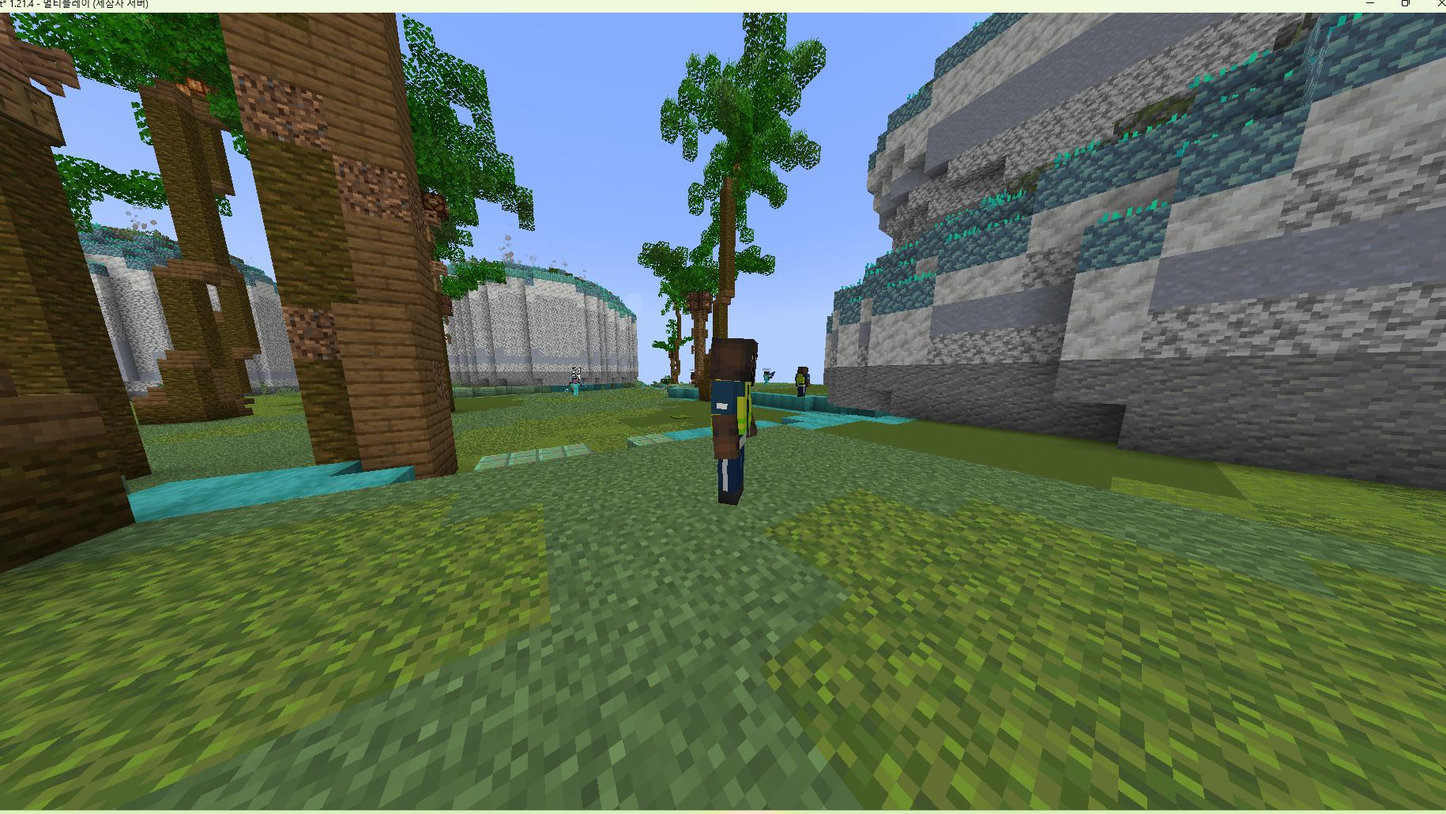Guardian: (709, 337, 757, 505), (794, 365, 811, 398)
